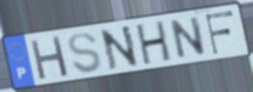F: (204, 9, 236, 56)
H: (29, 34, 71, 82), (135, 19, 174, 68)
N: (98, 24, 141, 73), (169, 14, 208, 61)
S: (67, 31, 104, 75)
